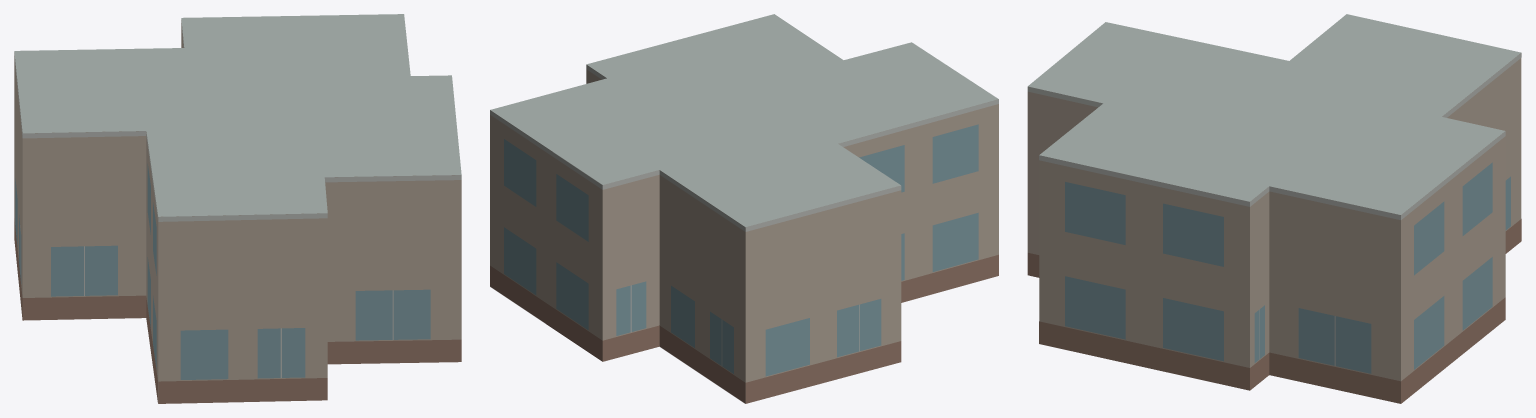
File: survey-upis-32840058.glb
The picture shows the model from 3 angles, left to right: view 1: azimuth 30°, elevation 25°; view 2: azimuth 150°, elevation 25°; view 3: azimuth 270°, elevation 25°; orthographic projection. The views are drawn at different scales.
Visible parts, largest first — view 1: survey-upis-32840058.tmp; view 2: survey-upis-32840058.tmp; view 3: survey-upis-32840058.tmp.
Part boxes in pixels (box(x1,y1,x2,y2)): survey-upis-32840058.tmp: box(14, 14, 461, 403); survey-upis-32840058.tmp: box(490, 14, 998, 403); survey-upis-32840058.tmp: box(1027, 14, 1521, 403).
Bounding box in the file's own units: 20.57 × 9 × 21.35.
